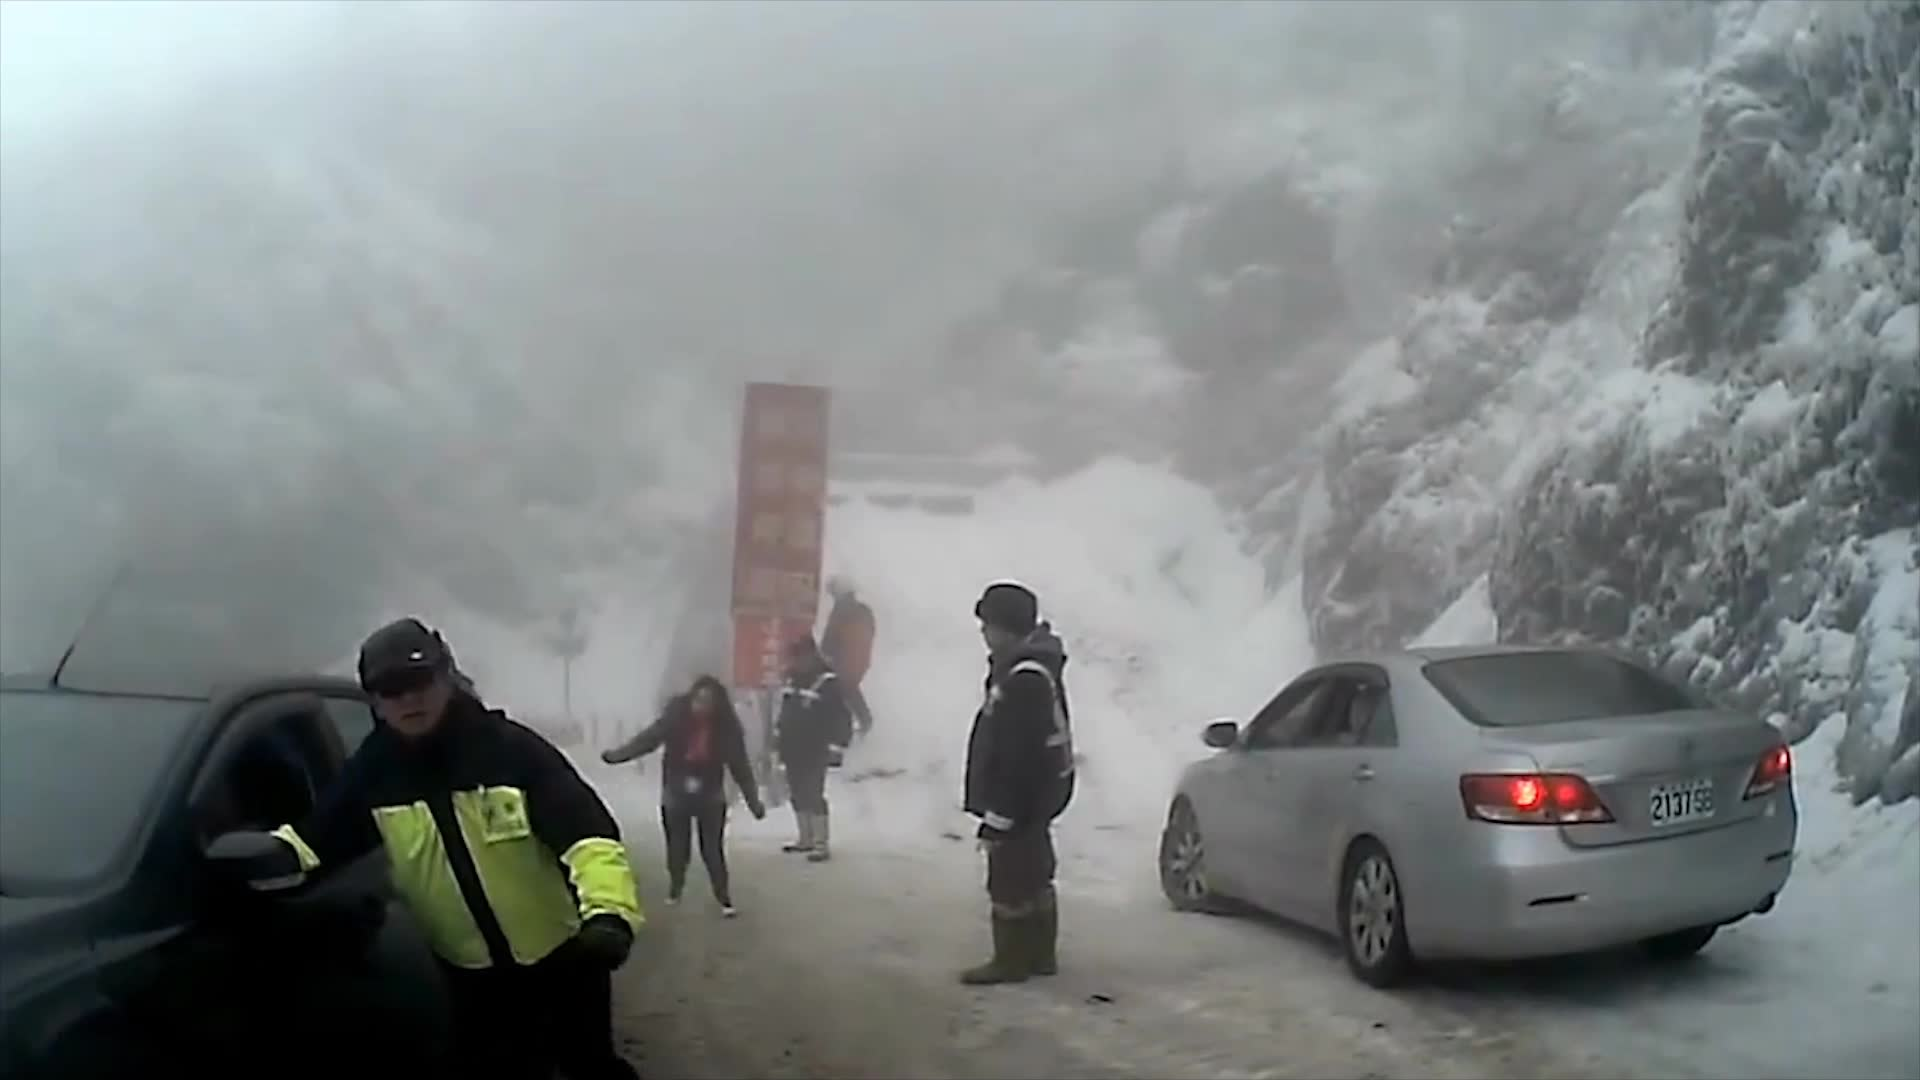pedestrian: (233, 618, 648, 1080), (950, 585, 1081, 984), (604, 671, 763, 916), (392, 644, 512, 925), (775, 641, 855, 864), (823, 572, 882, 745)
vehicle: (1157, 638, 1798, 986), (0, 661, 527, 1080)
